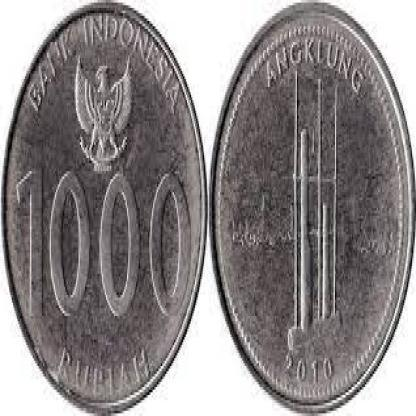coin_1000_e2010: (0, 0, 220, 416), (212, 0, 416, 416)
